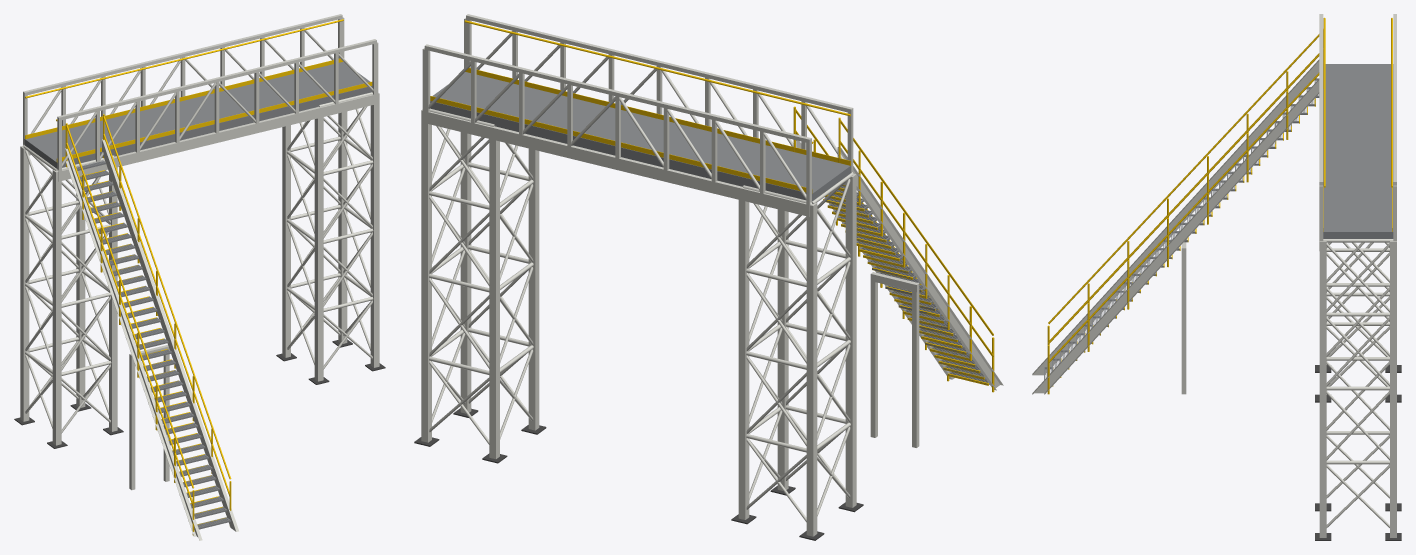
File: Rail_Crossover_Gantry.glb
The picture shows the model from 3 angles, left to right: view 1: azimuth 30°, elevation 25°; view 2: azimuth 150°, elevation 25°; view 3: azimuth 270°, elevation 25°; orthographic projection. The views are drawn at different scales.
Parts seen in each view (by area): view 1: bridge_deck_a12223, truss_bottom_chord_-1_bd02bb, bridge_deck_fecc21, stair_stringer_-1_75c972, west_leg_2_9f22ab, east_leg_0_3e647a, west_leg_1_457b48, east_leg_1_4aeee9, stair_flange_-1_1_5faa8a, stair_flange_1_1_48e390, east_leg_2_557a4f, east_leg_3_3a66de (+25 smaller); view 2: bridge_deck_a12223, truss_bottom_chord_1_48639c, bridge_deck_5df828, west_leg_2_7bb611, west_leg_3_dad81a, west_leg_1_0fa100, east_leg_3_e7e47d, east_leg_2_8f4ddb, east_leg_1_bd8302, west_leg_0_6afb75, east_leg_0_5287ea, bridge_toe_plate_-1_73a048 (+21 smaller); view 3: bridge_deck_a12223, stair_stringer_-1, stair_stringer_1_b5f433, east_leg_0_7e5fa1, east_leg_3_894b90, stair_top_rail_1_1a390f, stair_top_rail_-1_4370ea, stair_mid_rail_-1_366f02, stair_support_leg_-1_b90d1e, truss_top_chord_-1_4b8cfc, truss_top_chord_1_4463e1, stair_flange_1_1_48e390 (+4 smaller).
Boxes of the visible parts, box(x1,y1,x2,y2) form: bridge_deck_a12223: box(25, 62, 370, 161); truss_bottom_chord_-1_bd02bb: box(59, 94, 376, 181); bridge_deck_fecc21: box(62, 86, 372, 167); stair_stringer_-1_75c972: box(102, 140, 235, 531); west_leg_2_9f22ab: box(23, 148, 29, 421); east_leg_0_3e647a: box(374, 93, 379, 367); west_leg_1_457b48: box(56, 172, 61, 445); east_leg_1_4aeee9: box(318, 117, 323, 381); stair_flange_-1_1_5faa8a: box(102, 139, 238, 531); stair_flange_1_1_48e390: box(65, 148, 201, 540); east_leg_2_557a4f: box(285, 125, 290, 357); east_leg_3_3a66de: box(341, 111, 347, 343); bridge_deck_a12223: box(431, 72, 849, 193); truss_bottom_chord_1_48639c: box(424, 111, 809, 216); bridge_deck_5df828: box(430, 101, 806, 200); west_leg_2_7bb611: box(806, 205, 813, 536); west_leg_3_dad81a: box(738, 200, 745, 519); west_leg_1_0fa100: box(845, 177, 852, 507); east_leg_3_e7e47d: box(421, 110, 427, 442); east_leg_2_8f4ddb: box(489, 139, 495, 459); east_leg_1_bd8302: box(528, 148, 535, 430); west_leg_0_6afb75: box(777, 209, 784, 490); east_leg_0_5287ea: box(460, 132, 467, 413); bridge_toe_plate_-1_73a048: box(465, 68, 850, 165); bridge_deck_a12223: box(1323, 64, 1393, 231); stair_stringer_-1: box(1034, 81, 1319, 393); stair_stringer_1_b5f433: box(1033, 61, 1319, 375); east_leg_0_7e5fa1: box(1319, 242, 1326, 537); east_leg_3_894b90: box(1390, 242, 1396, 537); stair_top_rail_1_1a390f: box(1048, 34, 1319, 324); stair_top_rail_-1_4370ea: box(1048, 53, 1319, 343); stair_mid_rail_-1_366f02: box(1049, 72, 1319, 362); stair_support_leg_-1_b90d1e: box(1181, 254, 1186, 394); truss_top_chord_-1_4b8cfc: box(1319, 14, 1323, 181); truss_top_chord_1_4463e1: box(1393, 14, 1396, 181); stair_flange_1_1_48e390: box(1032, 59, 1319, 374).
Bounding box in the file's own units: 8.85 × 8.38 × 7.89.
